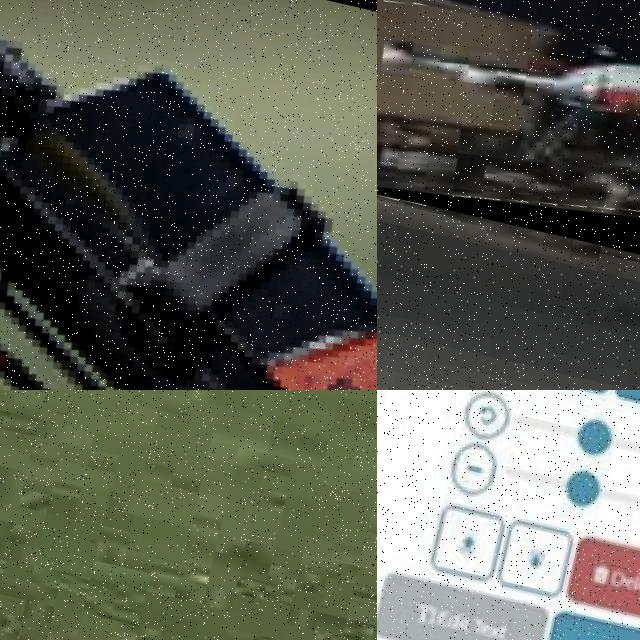drone: (0, 0, 377, 390), (377, 0, 640, 277)
